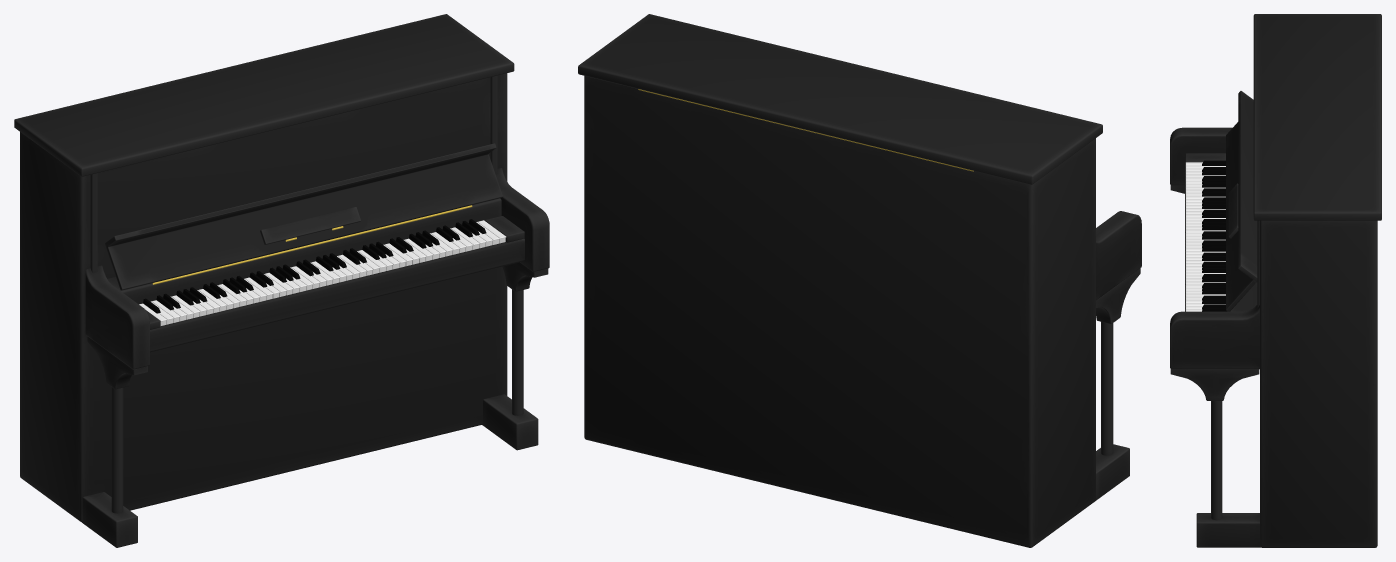
File: black_piano.glb
The picture shows the model from 3 angles, left to right: view 1: azimuth 30°, elevation 25°; view 2: azimuth 150°, elevation 25°; view 3: azimuth 270°, elevation 25°; orthographic projection. The views are drawn at different scales.
Parts seen in each view (by area): view 1: Cube_5, Cube.001_6, Cube.014_21, Cube.003_8, Cube.010_17, Cube.002_7, Cube.008_15, Cube.009_16, Cube.012_20, Cube.004_9, Cube.007_14, Cube.011_19 (+8 smaller); view 2: Cube_5, Cube.001_6, Cube.008_15, Cylinder_10, Cube.004_9, Cube.005_11; view 3: Cube_5, Cube.001_6, Cube.009_16, Cube.014_21, Cube.010_17, Cube.007_14, Cube.008_15, Cube.012_20, Cube.011_19, Cube.006_13, Cylinder.001_12, Cube.019_28 (+2 smaller).
Boxes of the visible parts, x1,y1,x2,y2 form: Cube_5: (20, 73, 507, 521); Cube.001_6: (14, 14, 514, 176); Cube.014_21: (105, 143, 502, 290); Cube.003_8: (150, 238, 524, 352); Cube.010_17: (139, 220, 506, 325); Cube.002_7: (107, 198, 501, 304); Cube.008_15: (85, 265, 149, 369); Cube.009_16: (496, 168, 549, 271); Cube.012_20: (176, 219, 486, 305); Cube.004_9: (81, 492, 137, 547); Cube.007_14: (482, 394, 538, 450); Cube.011_19: (156, 225, 460, 310); Cube_5: (584, 76, 1095, 547); Cube.001_6: (578, 14, 1102, 184); Cube.008_15: (1096, 211, 1141, 300); Cylinder_10: (1101, 322, 1113, 455); Cube.004_9: (1095, 444, 1129, 500); Cube.005_11: (1096, 268, 1140, 323); Cube_5: (1260, 220, 1377, 547); Cube.001_6: (1253, 14, 1381, 220); Cube.009_16: (1170, 305, 1259, 369); Cube.014_21: (1226, 91, 1257, 311); Cube.010_17: (1185, 162, 1225, 311); Cube.007_14: (1196, 513, 1260, 547); Cube.008_15: (1170, 127, 1232, 185); Cube.012_20: (1202, 176, 1226, 311); Cube.011_19: (1202, 167, 1225, 303); Cube.006_13: (1170, 369, 1259, 400); Cylinder.001_12: (1211, 401, 1222, 520); Cube.019_28: (1228, 183, 1238, 238).
Size of the model in its own units: 1.89 by 1.5 by 0.8487.
5 materials, 5 textured.
